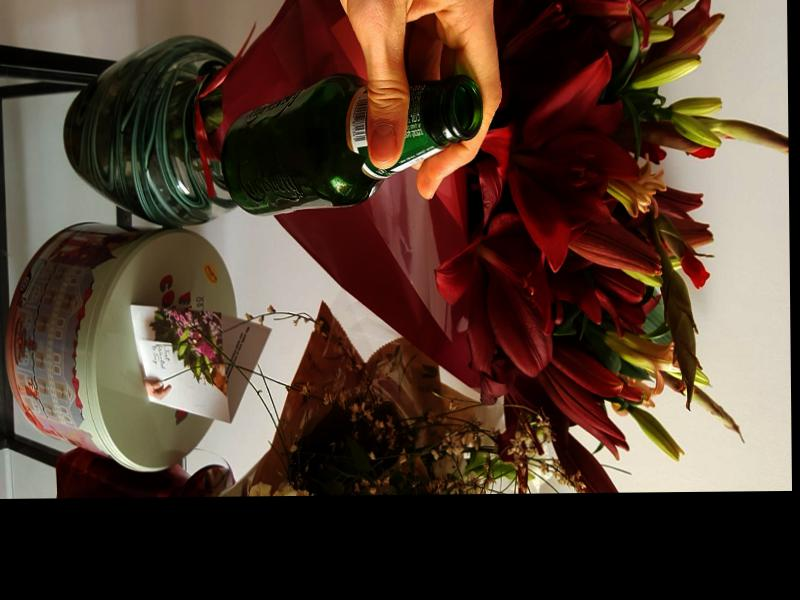Beer: (221, 72, 482, 217)
